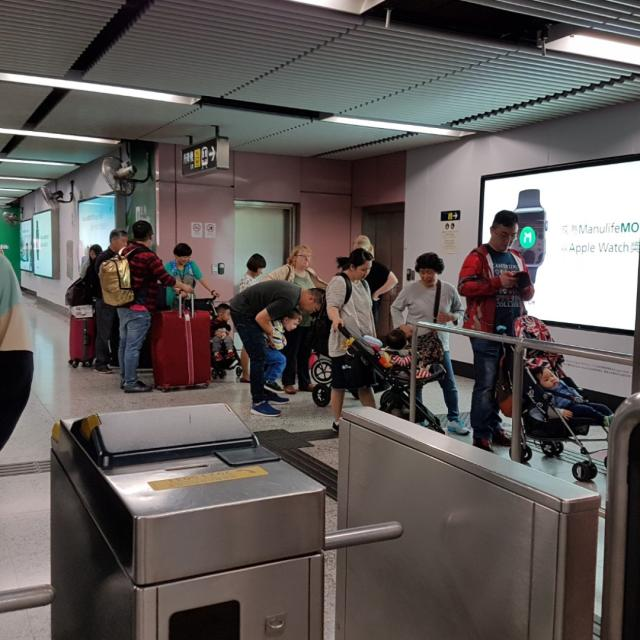body: (455, 208, 538, 455), (389, 251, 472, 437), (228, 279, 331, 417), (115, 219, 196, 394), (260, 242, 329, 395), (324, 247, 379, 434), (0, 245, 39, 460), (338, 234, 400, 330), (92, 227, 130, 374), (530, 365, 616, 428), (238, 252, 270, 384), (161, 241, 221, 311), (262, 305, 303, 395), (382, 328, 436, 380), (210, 302, 236, 362), (79, 243, 104, 284)
